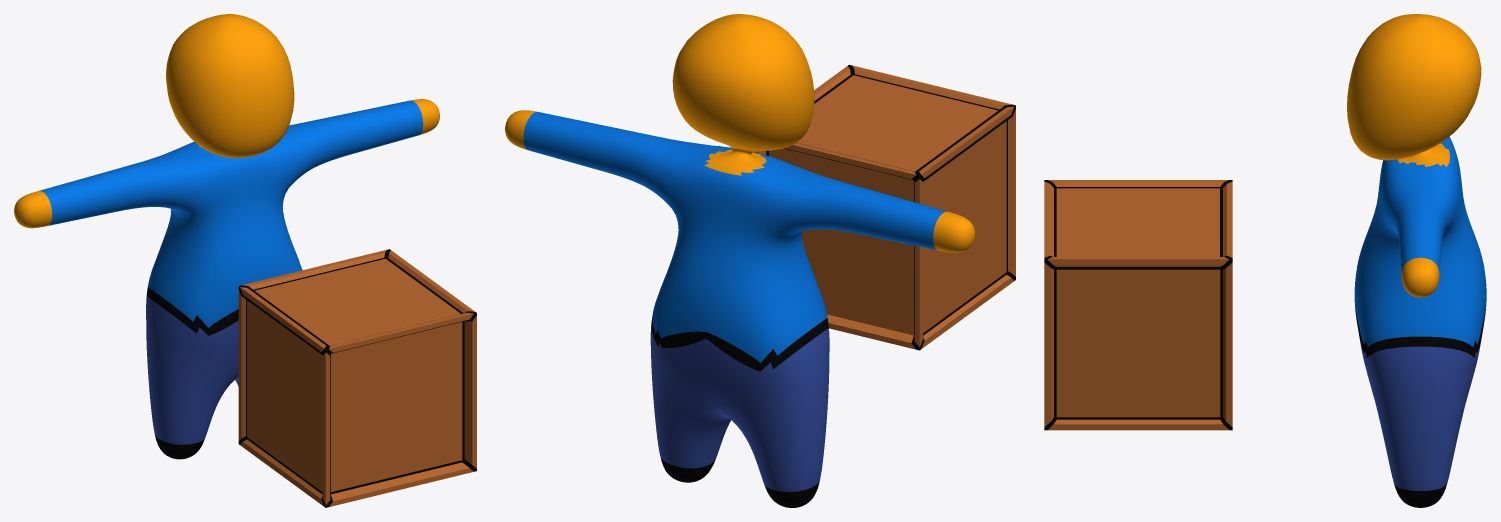
File: blazeGamesModal.fbx
3 views of the same model, side by side, from view 1: azimuth 30°, elevation 25°; view 2: azimuth 150°, elevation 25°; view 3: azimuth 270°, elevation 25° (orthographic). The views are drawn at different scales.
Visible parts, largest first — view 1: Cube, Cube.001; view 2: Cube, Cube.001; view 3: Cube, Cube.001.
Boxes of the visible parts, left/top/right/bottom form: Cube: left=14, top=14, right=439, bottom=459; Cube.001: left=238, top=249, right=476, bottom=507; Cube: left=505, top=14, right=975, bottom=507; Cube.001: left=755, top=64, right=1015, bottom=350; Cube: left=1347, top=14, right=1486, bottom=507; Cube.001: left=1044, top=180, right=1232, bottom=430.
Size of what is drawn, in the model's own units: 557 by 541 by 470.
